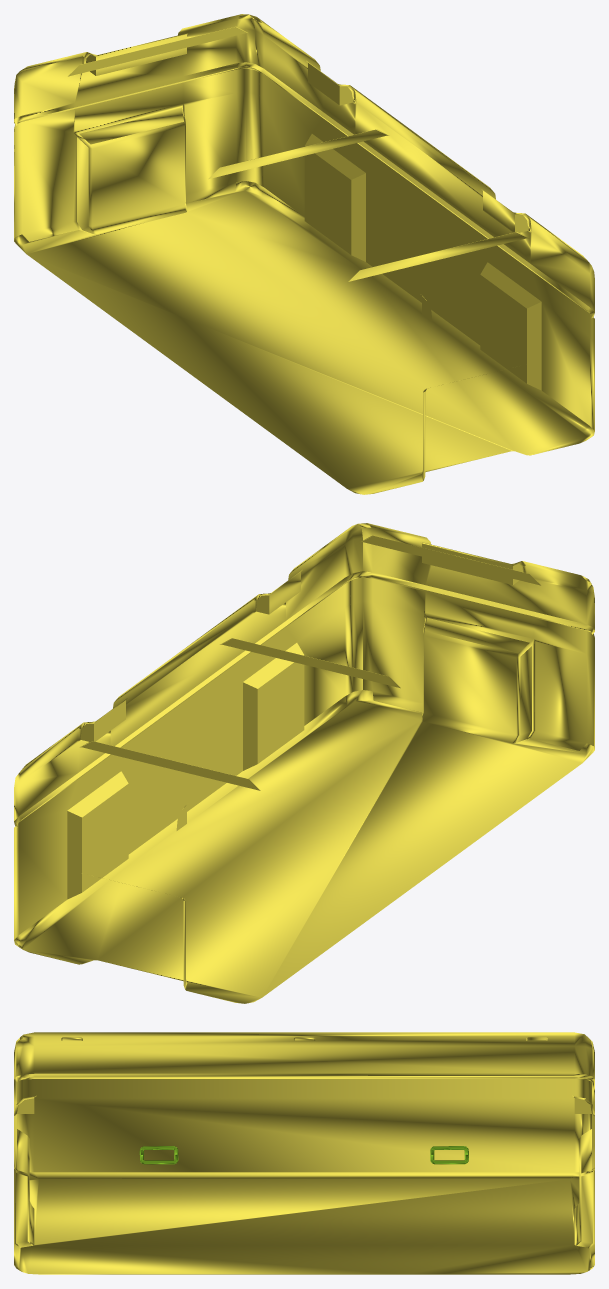
The model's file is crate_dry_7_a.glb.
3 renders of one model, top to bottom at view 1: azimuth 30°, elevation 25°; view 2: azimuth 150°, elevation 25°; view 3: azimuth 270°, elevation 25°, orthographic. The views are drawn at different scales.
Size of the model in its own units: 1.03 by 0.75 by 2.5.
